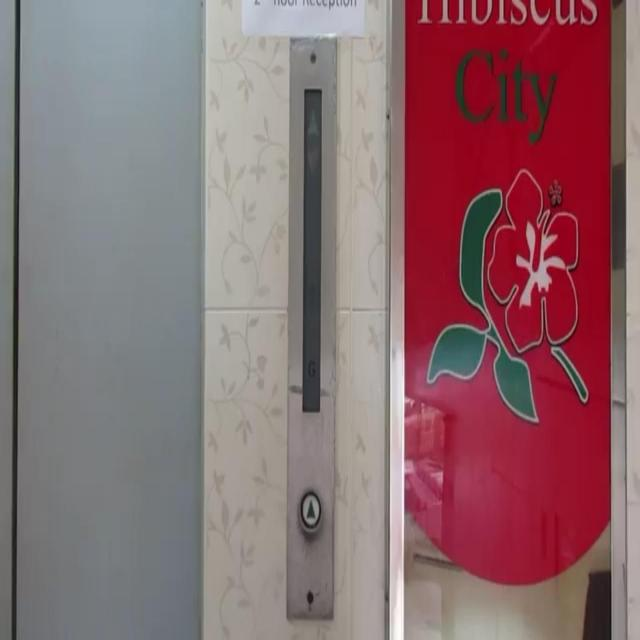up: (299, 489, 321, 534)
